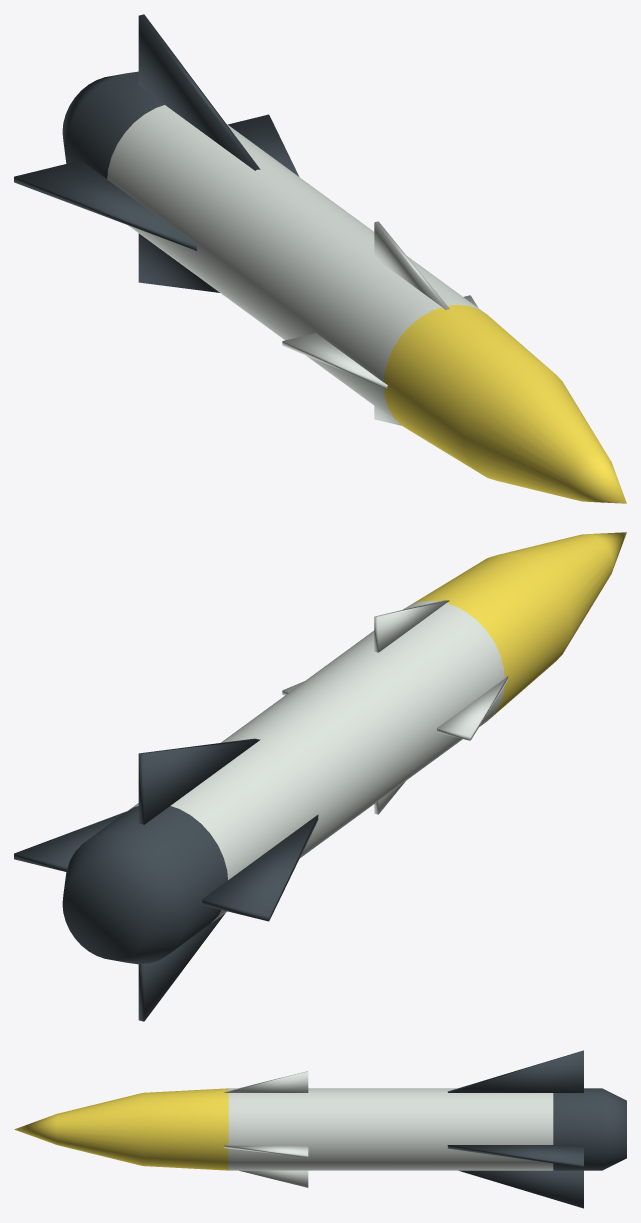
File: missile_heavy_projectile_display.glb
3 renders of one model, top to bottom at view 1: azimuth 30°, elevation 25°; view 2: azimuth 150°, elevation 25°; view 3: azimuth 270°, elevation 25°, orthographic. The views are drawn at different scales.
Parts seen in each view (by area): view 1: AMMO_MESH.063; view 2: AMMO_MESH.063; view 3: AMMO_MESH.063.
Boxes of the visible parts, left/top/right/bottom form: AMMO_MESH.063: left=14, top=14, right=626, bottom=503; AMMO_MESH.063: left=14, top=532, right=626, bottom=1021; AMMO_MESH.063: left=14, top=1050, right=626, bottom=1208.
Size of the model in its own units: 1.81 by 1.81 by 6.4.
